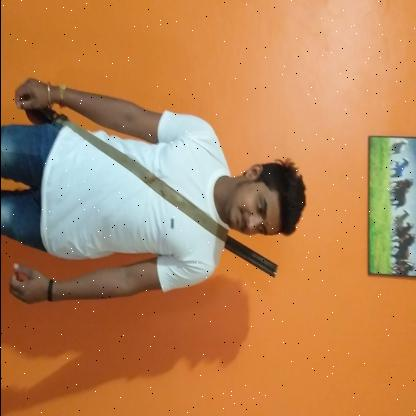rifle: (20, 90, 280, 280)
